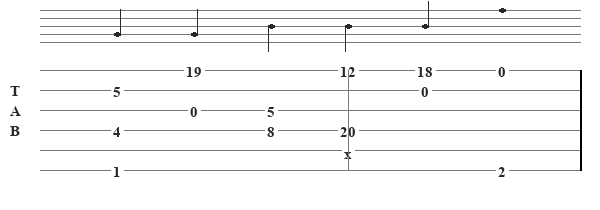0: (190, 103, 202, 117), (421, 83, 433, 97), (498, 63, 510, 77)
1: (113, 163, 125, 177)
12: (340, 63, 360, 77)
18: (417, 63, 437, 77)
19: (186, 63, 206, 77)
2: (498, 163, 510, 177)
20: (340, 123, 360, 137)
4: (113, 123, 125, 137)
5: (113, 83, 125, 97), (267, 103, 279, 117)
8: (267, 123, 279, 137)
x: (344, 145, 356, 156)
